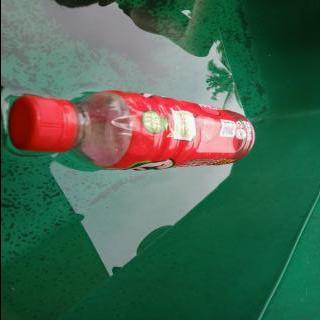bottle: (4, 88, 256, 172)
